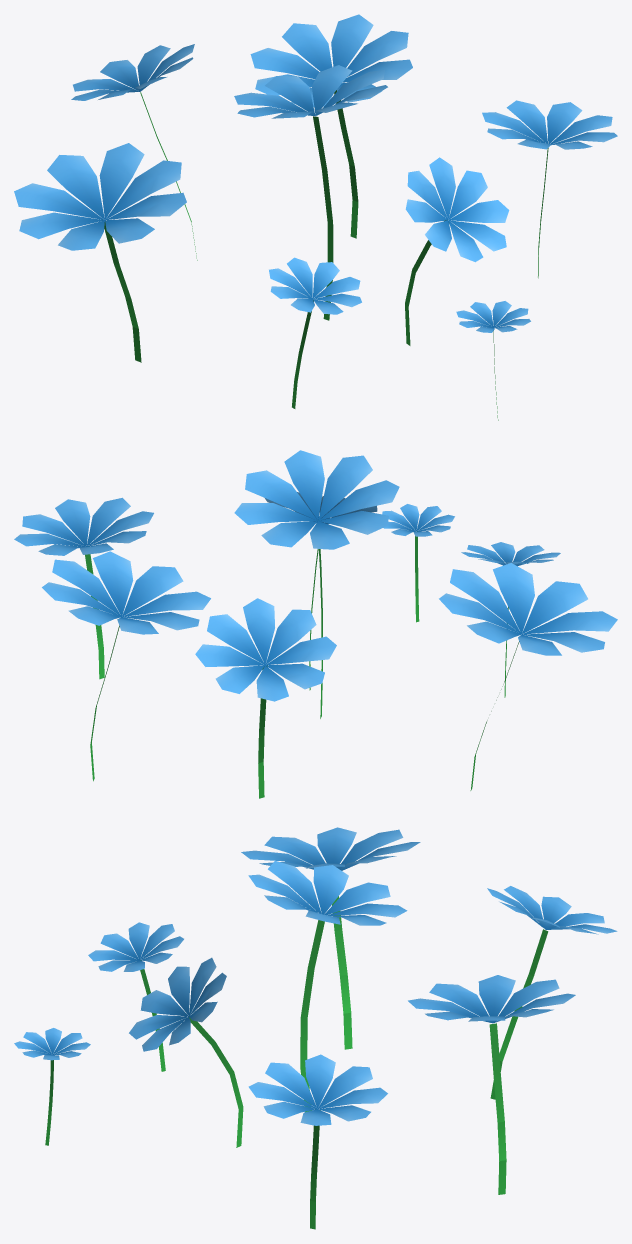
File: SM_Flores03.fbx
3 renders of one model, top to bottom at view 1: azimuth 30°, elevation 25°; view 2: azimuth 150°, elevation 25°; view 3: azimuth 270°, elevation 25°, orthographic. The views are drawn at different scales.
Visible parts, largest first — view 1: Plane.012; view 2: Plane.012; view 3: Plane.012.
Boxes of the visible parts, <box> form: Plane.012: <box>14,14,617,420</box>; Plane.012: <box>14,450,617,798</box>; Plane.012: <box>14,827,617,1229</box>.
Bounding box in the file's own units: 25.21 × 10.68 × 23.05.
